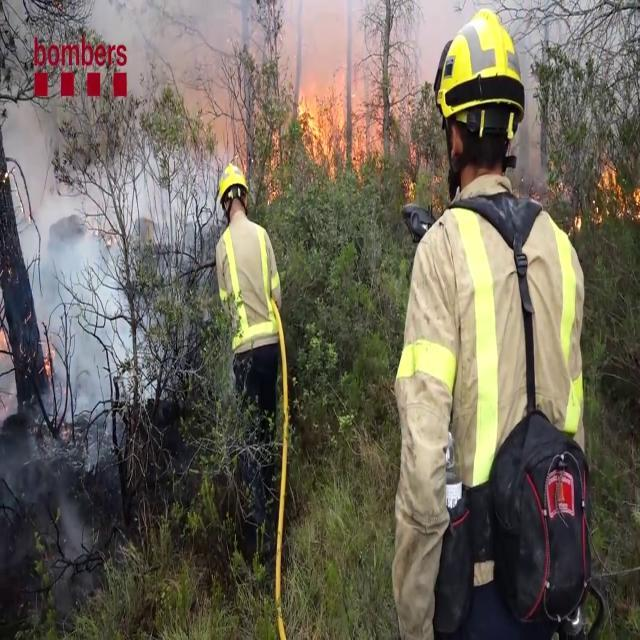Fire: (293, 45, 375, 176), (594, 157, 640, 226)
Smoke: (2, 109, 148, 429)
